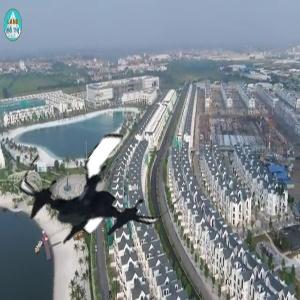drone: (24, 114, 176, 266)
